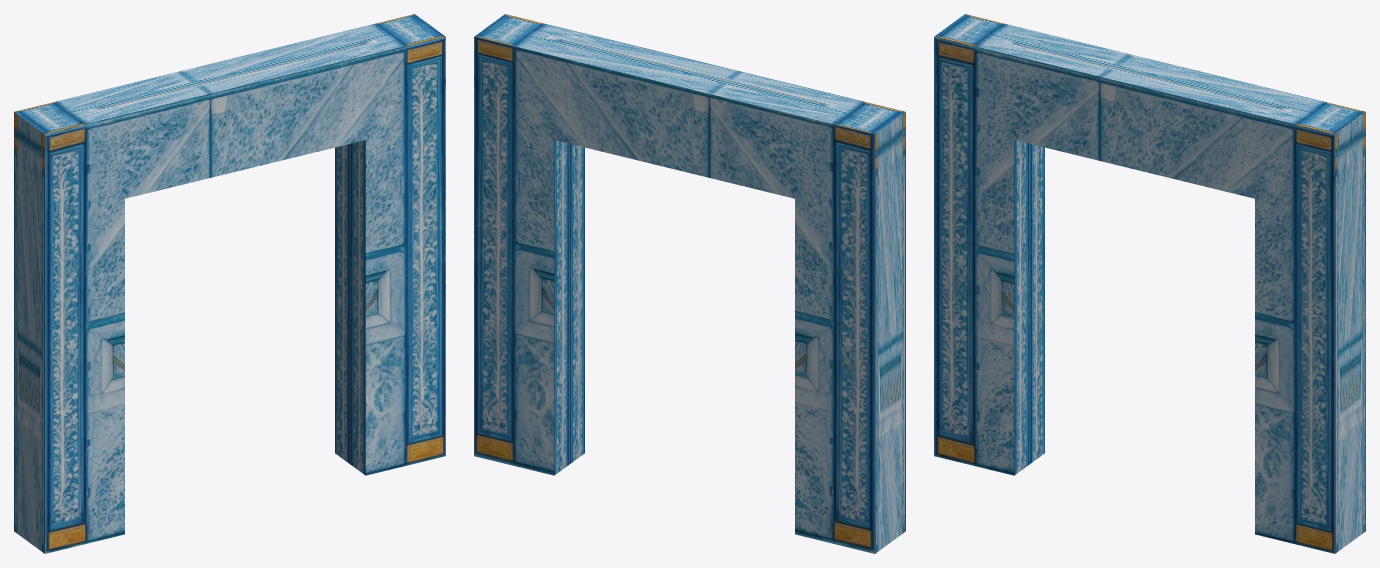
File: frame_city.glb
3 views of the same model, side by side, from view 1: azimuth 30°, elevation 25°; view 2: azimuth 150°, elevation 25°; view 3: azimuth 330°, elevation 25° (orthographic).
Parts seen in each view (by area): view 1: Cube.001; view 2: Cube.001; view 3: Cube.001.
Part boxes in pixels (left/top/right/bottom): Cube.001: left=14, top=14, right=445, bottom=553; Cube.001: left=474, top=14, right=905, bottom=553; Cube.001: left=934, top=14, right=1365, bottom=553.
Bounding box in the file's own units: 3 × 3 × 0.4.
1 material, 1 textured.
